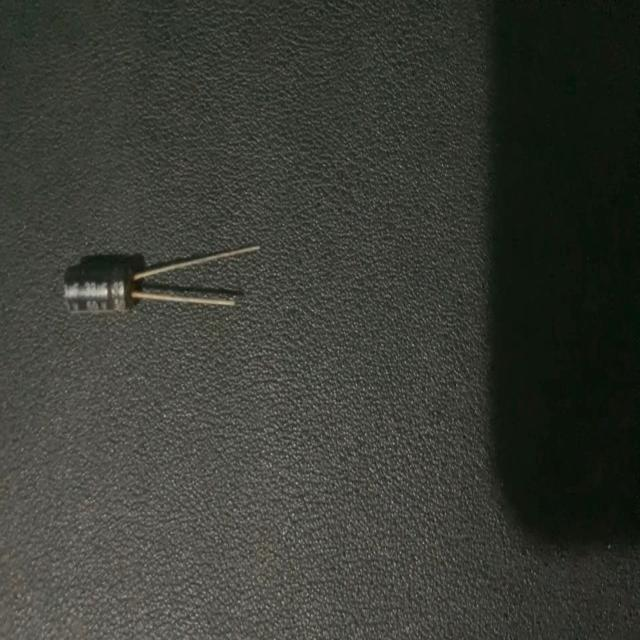capacitor: (62, 245, 264, 312)
